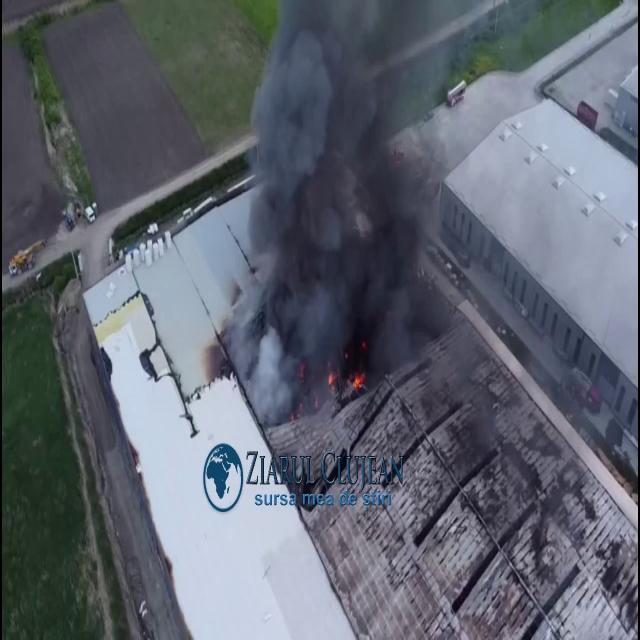Smoke: (222, 0, 446, 415)
